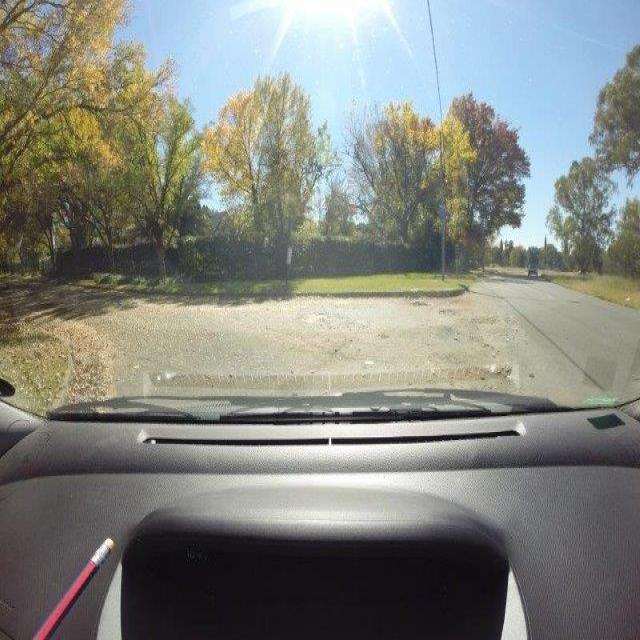lubang: (437, 356, 527, 388), (446, 324, 505, 359), (436, 304, 459, 319)
